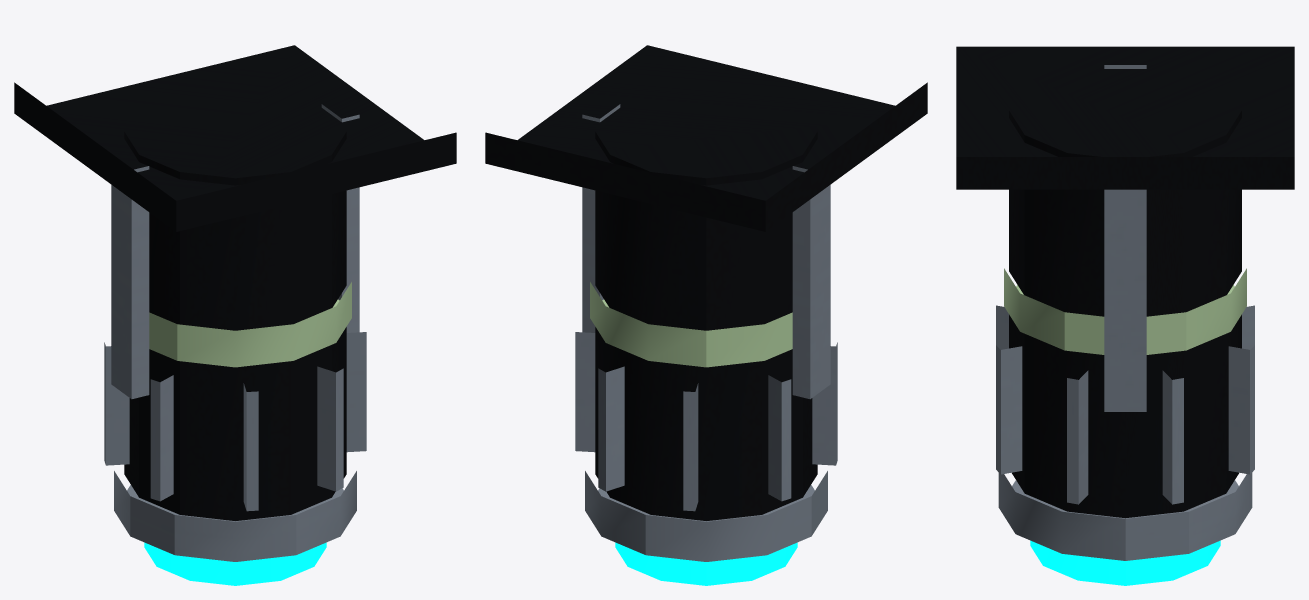
Rendered from tt_aquarium_caustic.glb.
3 renders of one model, left to right at view 1: azimuth 30°, elevation 25°; view 2: azimuth 150°, elevation 25°; view 3: azimuth 270°, elevation 25°, orthographic. The views are drawn at different scales.
Visible parts, largest first — view 1: Projector_Can, Mount_Plate, Can_Fins, Lens_Ring, Yoke, Can_Band, Caustic_Lens; view 2: Projector_Can, Mount_Plate, Can_Fins, Lens_Ring, Yoke, Can_Band, Caustic_Lens; view 3: Projector_Can, Mount_Plate, Can_Fins, Lens_Ring, Yoke, Can_Band, Caustic_Lens.
Part boxes in pixels (x1,y1,x2,y2): Projector_Can: (124,132,346,520); Mount_Plate: (14,45,456,231); Can_Fins: (104,332,366,511); Lens_Ring: (114,471,356,561); Yoke: (111,104,359,399); Can_Band: (149,282,351,367); Caustic_Lens: (144,542,326,585); Projector_Can: (595,132,817,520); Mount_Plate: (485,45,927,231); Can_Fins: (575,332,837,511); Lens_Ring: (585,471,827,561); Yoke: (582,104,830,399); Can_Band: (590,282,792,367); Caustic_Lens: (615,542,797,585); Projector_Can: (1009,111,1241,518); Mount_Plate: (956,46,1294,189); Can_Fins: (996,305,1254,504); Lens_Ring: (998,473,1252,560); Yoke: (1104,65,1146,411); Can_Band: (1004,268,1246,354); Caustic_Lens: (1030,540,1220,585).
Size of what is drawn, in the model's own units: 0.32 by 0.48 by 0.32.
4 materials, 2 textured.
